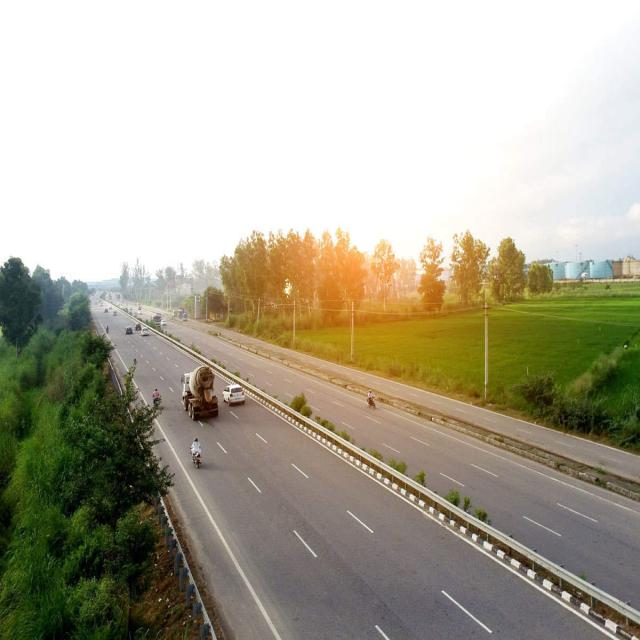Clean road: (103, 338, 640, 640)
